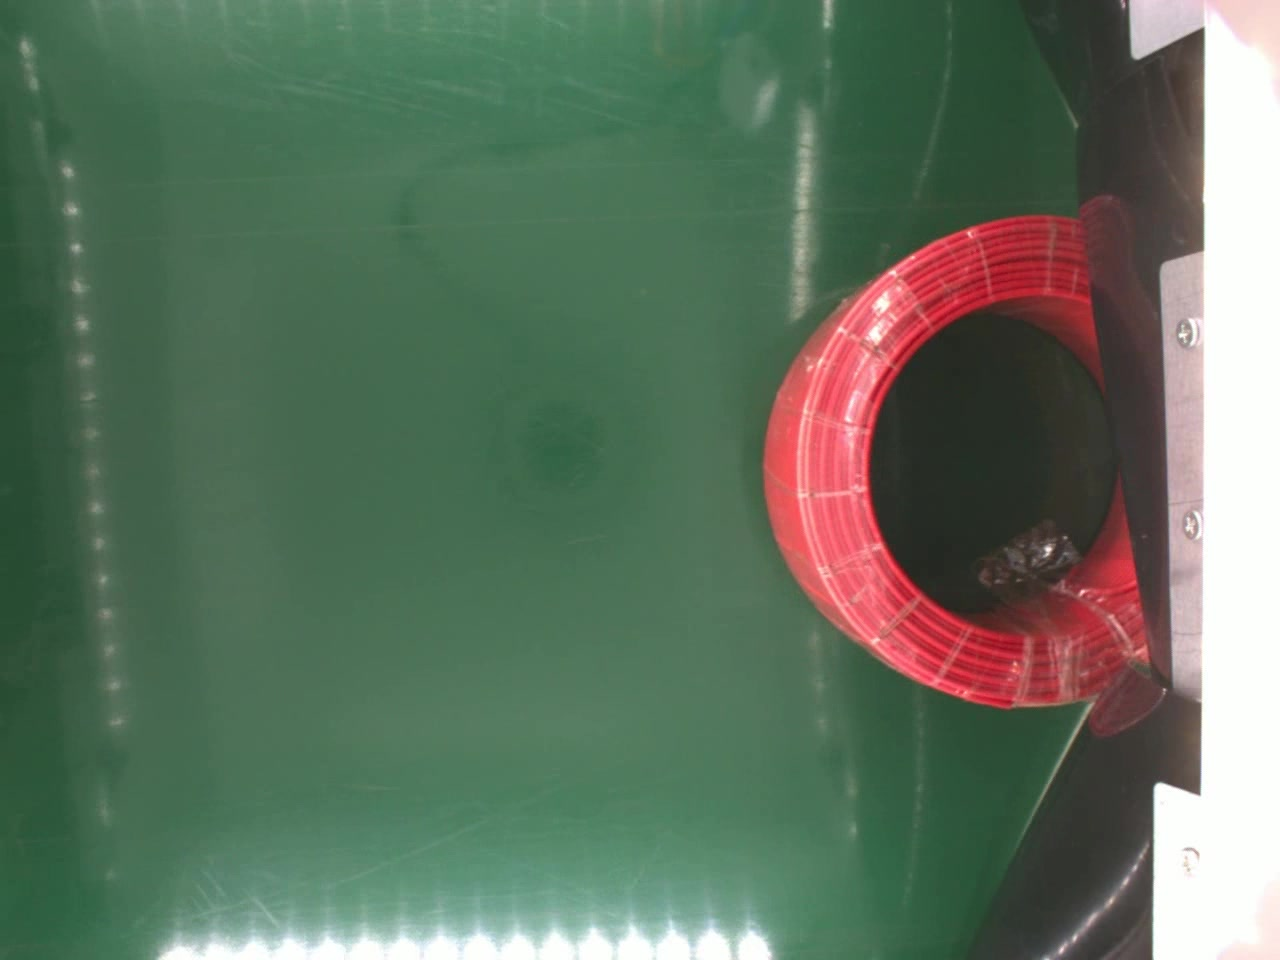red: (760, 209, 1158, 709)
